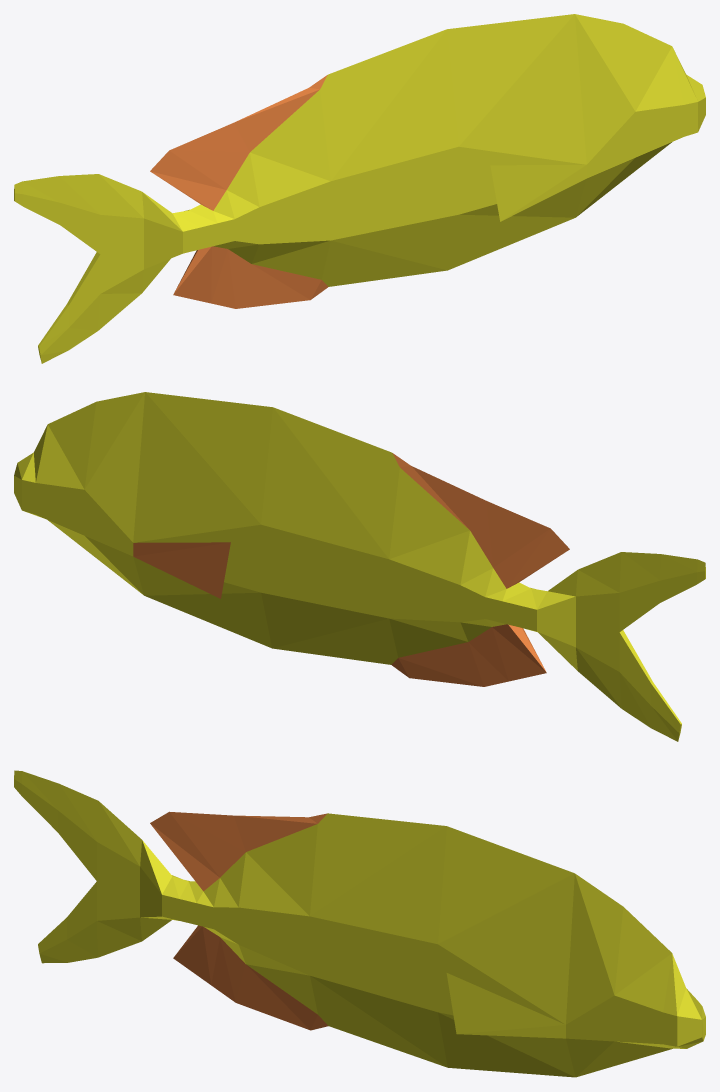
File: fish_00.fbx
3 views of the same model, one above another, from view 1: azimuth 30°, elevation 25°; view 2: azimuth 150°, elevation 25°; view 3: azimuth 330°, elevation 25° (orthographic).
Parts seen in each view (by area): view 1: Cylinder001; view 2: Cylinder001; view 3: Cylinder001.
Boxes of the visible parts, left/top/right/bottom form: Cylinder001: left=14, top=14, right=705, bottom=363; Cylinder001: left=14, top=392, right=705, bottom=741; Cylinder001: left=14, top=770, right=705, bottom=1077.
Size of the model in its own units: 230 by 77.08 by 24.6.
